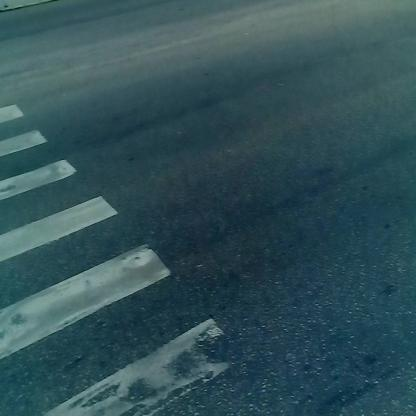crosswalk: (1, 50, 229, 416)
